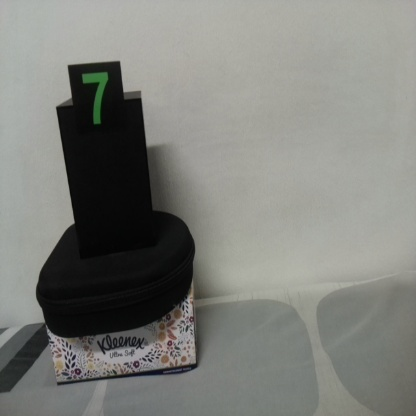id_7: (68, 64, 123, 146)
